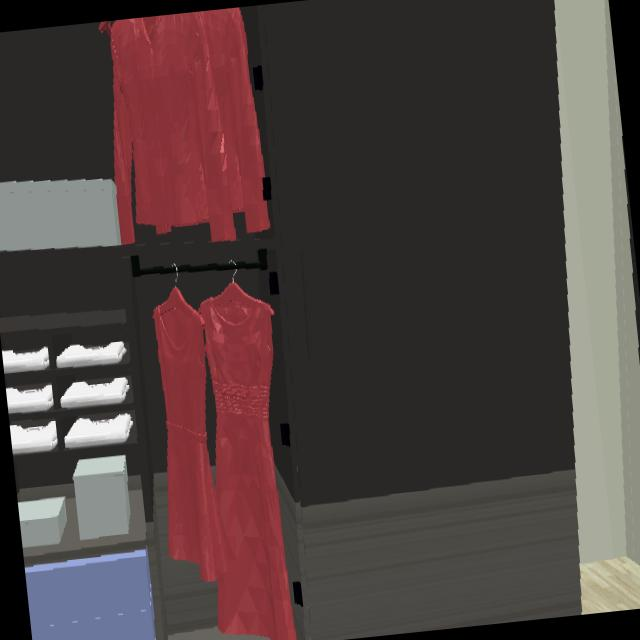wardrobe: (0, 0, 581, 640)
